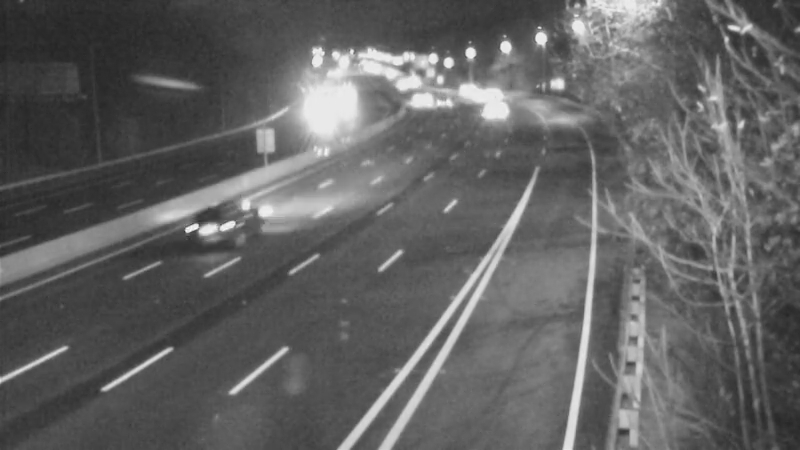vehicle: (180, 186, 260, 266), (389, 75, 439, 125), (422, 79, 472, 129), (465, 92, 515, 142)
